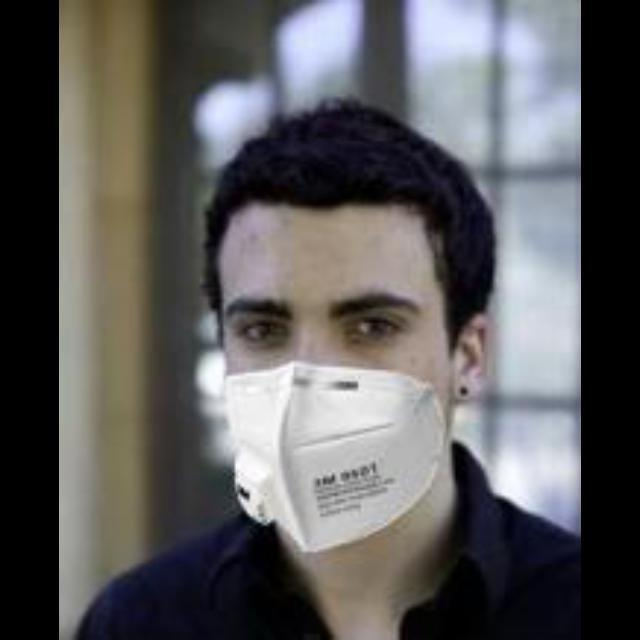suspicion: (219, 133, 477, 552)
